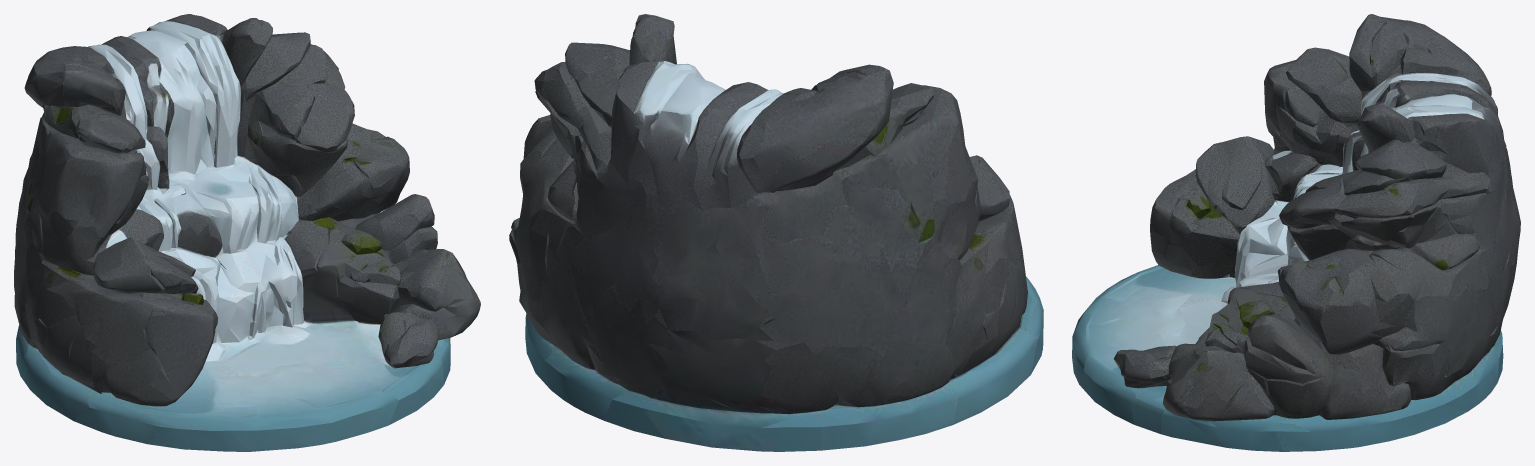
File: lm_fiume.glb
3 renders of one model, left to right at view 1: azimuth 30°, elevation 25°; view 2: azimuth 150°, elevation 25°; view 3: azimuth 270°, elevation 25°, orthographic. The views are drawn at different scales.
Bounding box in the file's own units: 1.84 × 1.34 × 1.9.
1 material, 1 textured.
